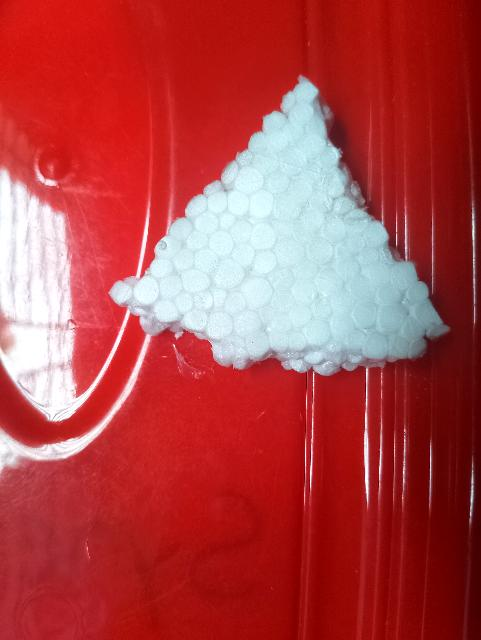cocksheet: (172, 88, 434, 380)
